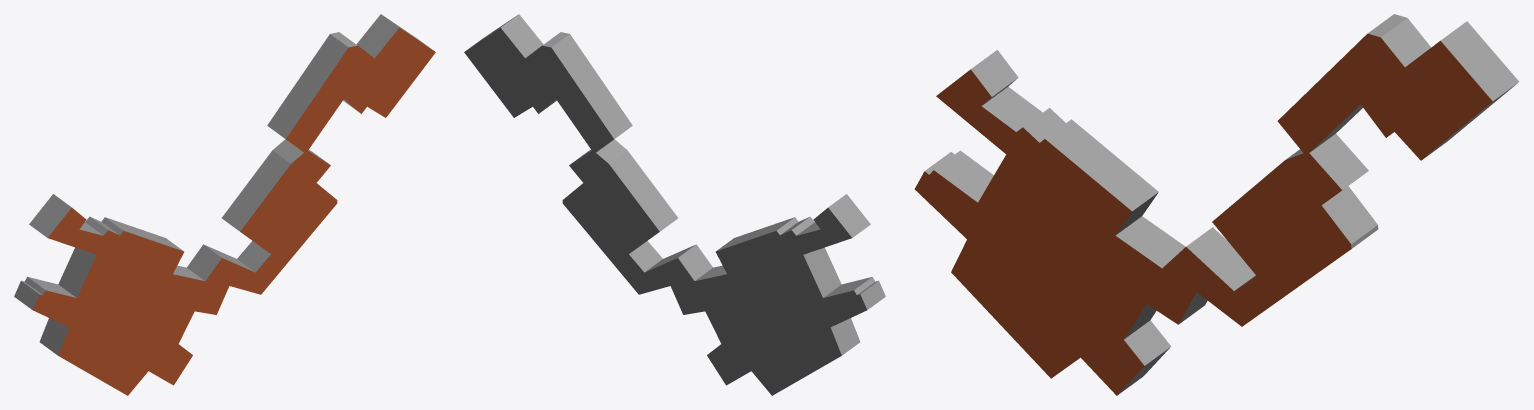
The model's file is construction_5742_assumed_A_Casa_h6m.obj.
3 renders of one model, left to right at view 1: azimuth 30°, elevation 25°; view 2: azimuth 150°, elevation 25°; view 3: azimuth 330°, elevation 25°, orthographic. The views are drawn at different scales.
Parts seen in each view (by area): view 1: construction_5742_assumed_A_Casa; view 2: construction_5742_assumed_A_Casa; view 3: construction_5742_assumed_A_Casa.
Part boxes in pixels (x1,y1,x2,y2): construction_5742_assumed_A_Casa: (14, 14, 435, 395); construction_5742_assumed_A_Casa: (464, 14, 885, 395); construction_5742_assumed_A_Casa: (914, 14, 1519, 395).
Size of the model in its own units: 75 by 53.82 by 6.
